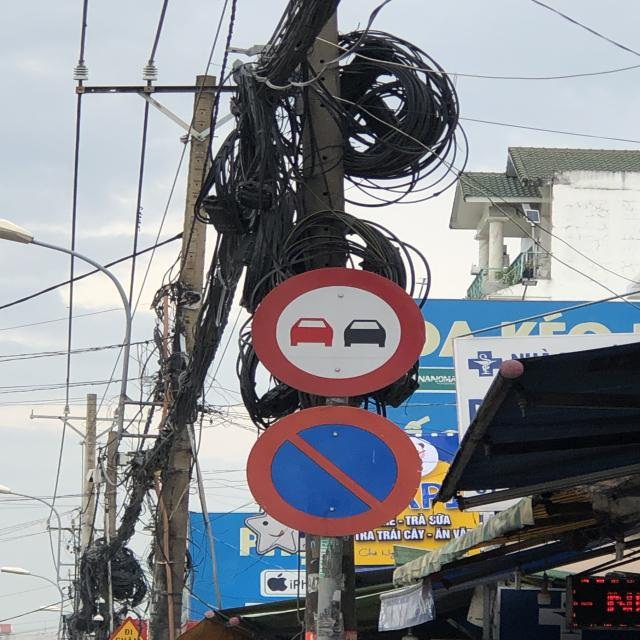Bien bao cam do xe: (245, 402, 421, 538)
Bien bao cam vuot: (247, 264, 433, 401)
